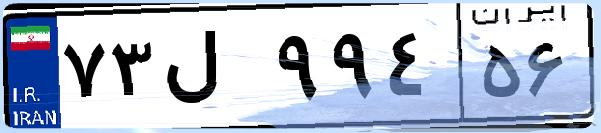3: (110, 28, 158, 98)
4: (385, 28, 445, 110)
5: (475, 38, 525, 113)
6: (525, 38, 570, 115)
7: (57, 26, 110, 100)
9: (270, 28, 330, 110), (330, 28, 385, 110)
ل: (158, 20, 270, 120)
